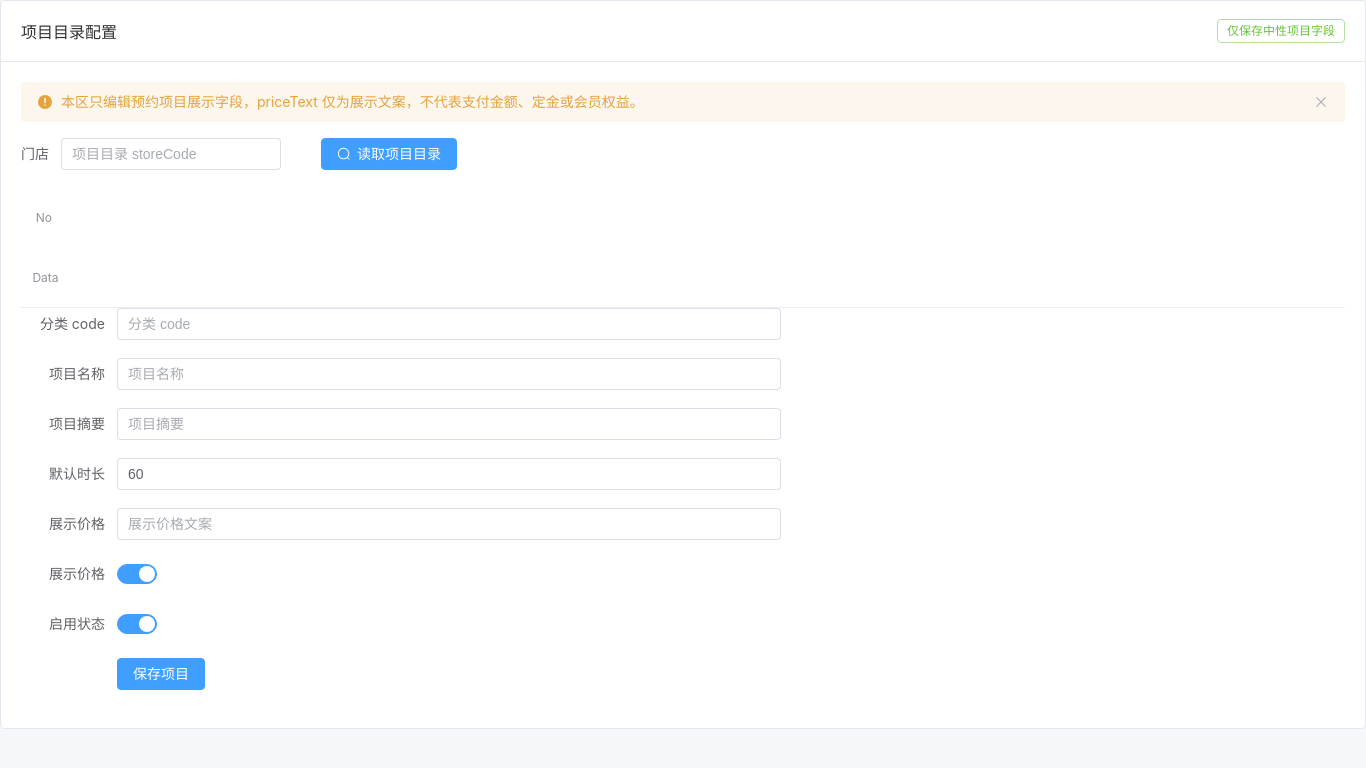
Test: StoreAppointmentServiceCatalogPanel › keeps selected project draft when save fails
In the field with placeholder "项目目录 storeCode": (171, 154) top-left (72, 139), bottom-right (270, 169), type "store-config-001"
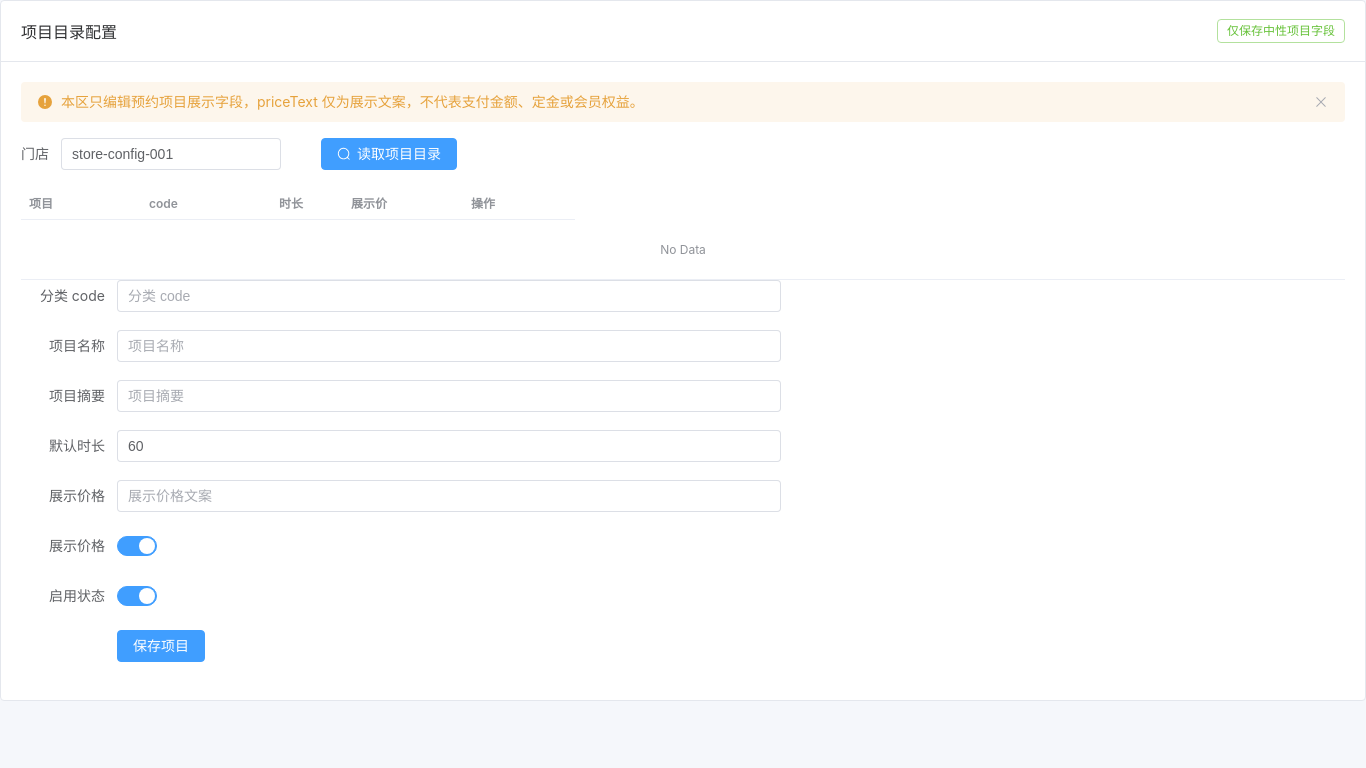
Click the button "读取项目目录": click(389, 154) top-left (321, 138), bottom-right (457, 170)
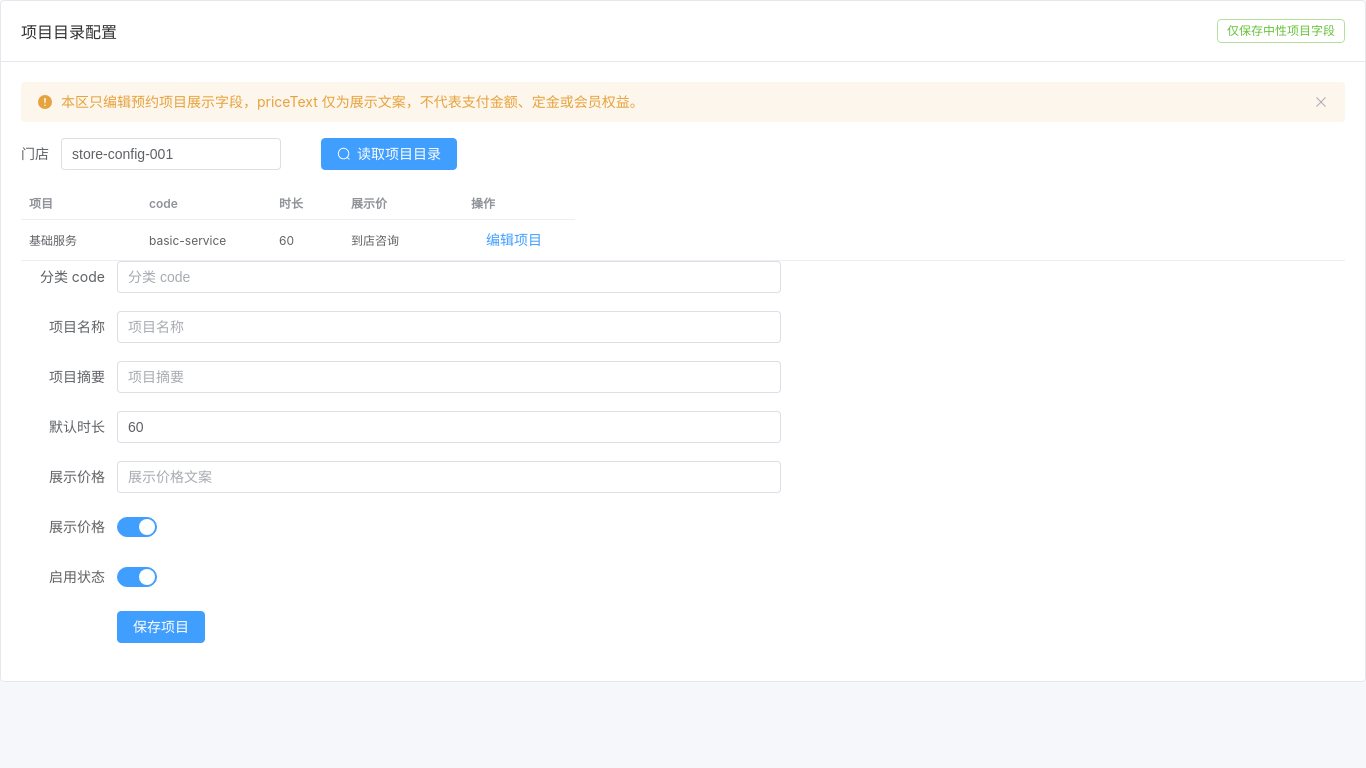
Click the button "编辑项目": click(514, 240) top-left (471, 224), bottom-right (557, 256)
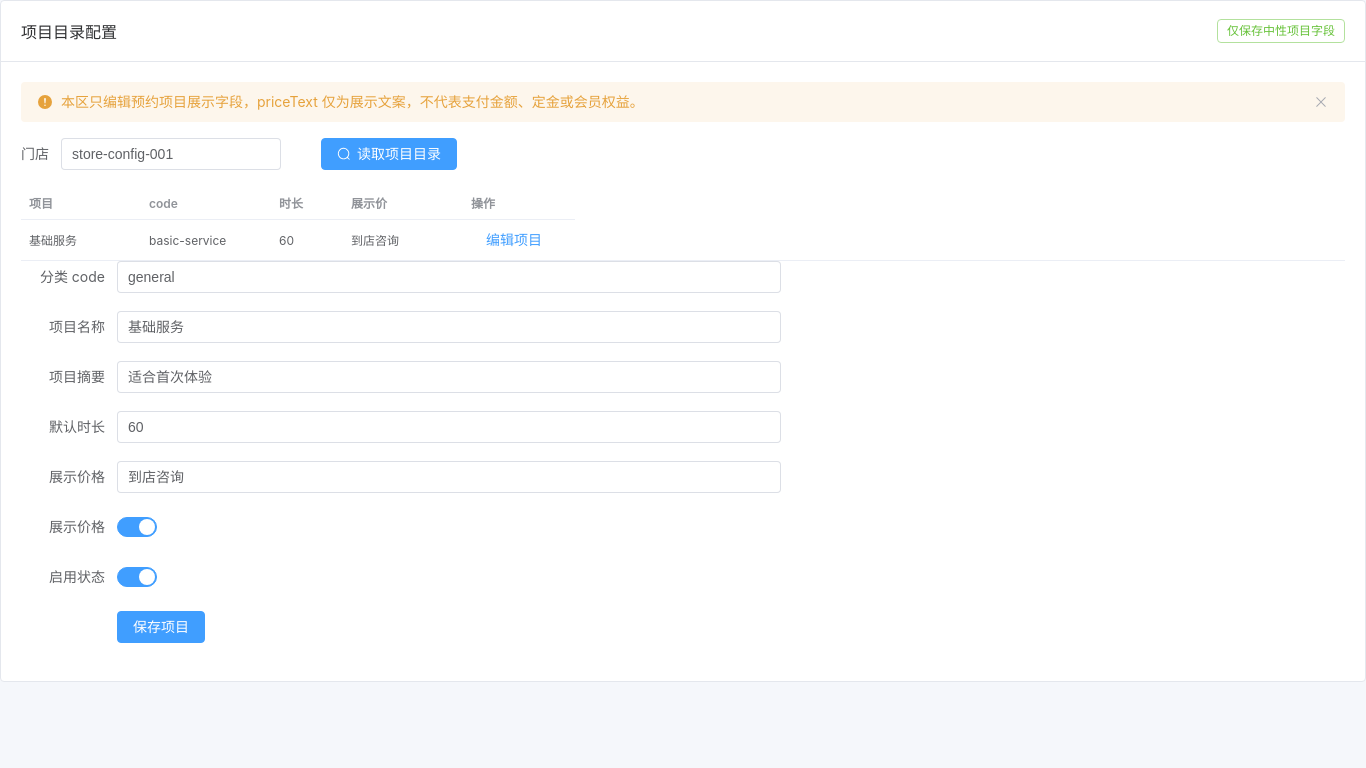
Replace the text in the field with placeholder "项目名称" with "失败后仍保留项目": (449, 327) top-left (128, 312), bottom-right (770, 342)
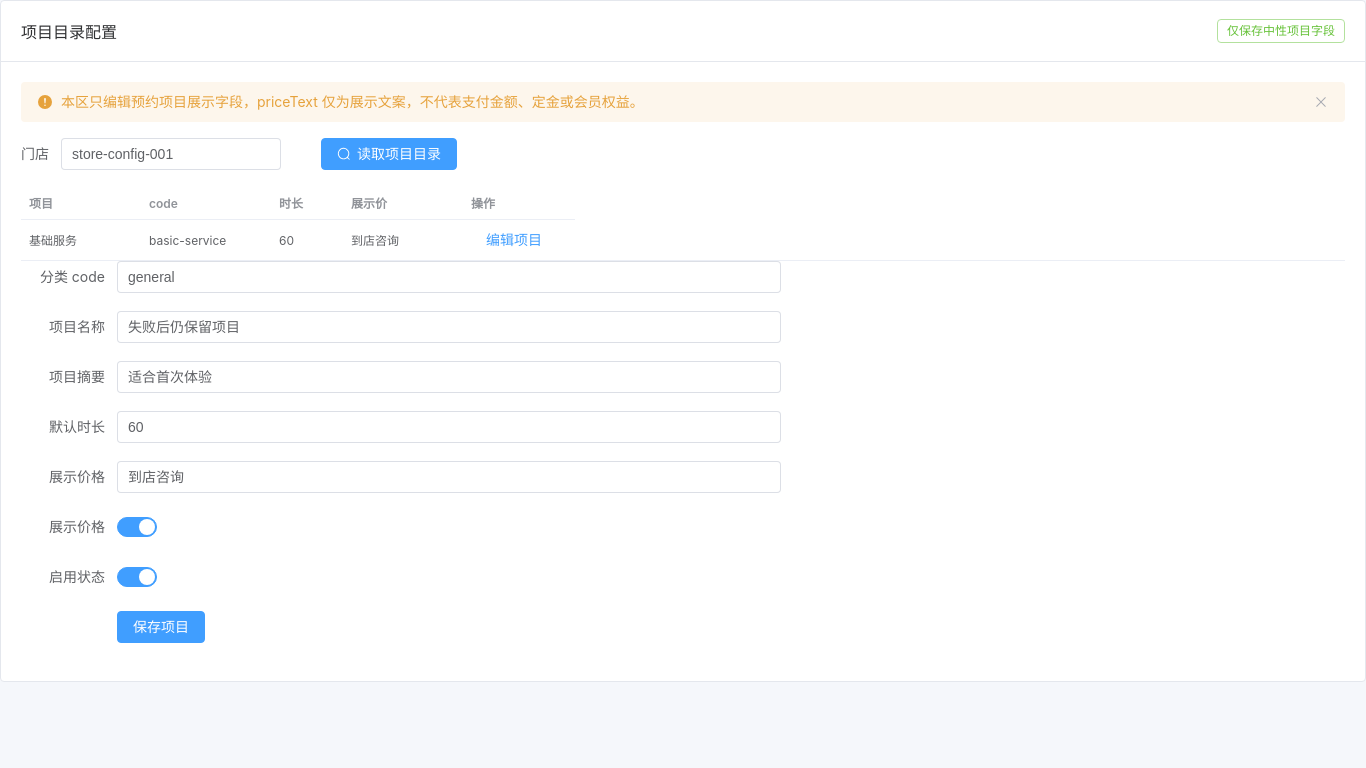
Click the button "保存项目": click(161, 627) top-left (117, 611), bottom-right (205, 643)
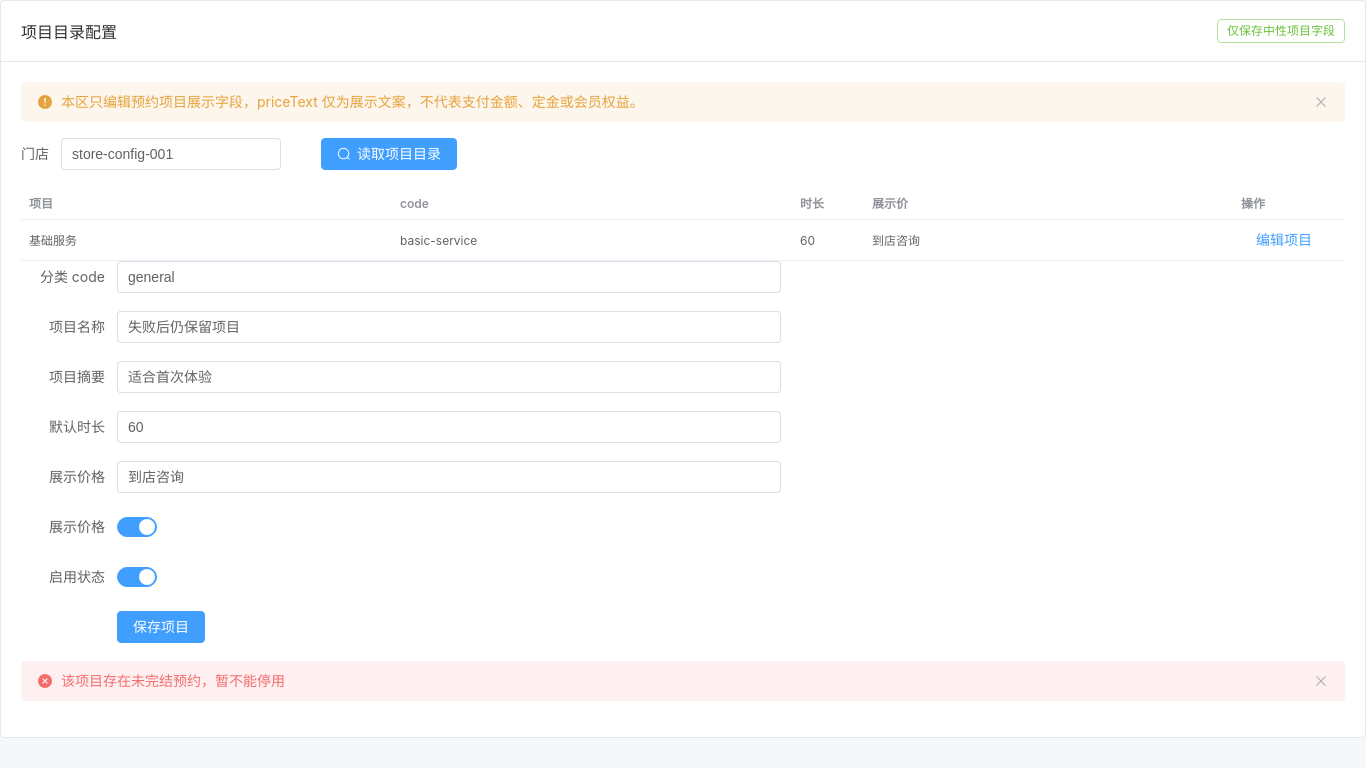
Now the text "该项目存在未完结预约，暂不能停用" is shown, box top-left (61, 669), bottom-right (285, 693)
